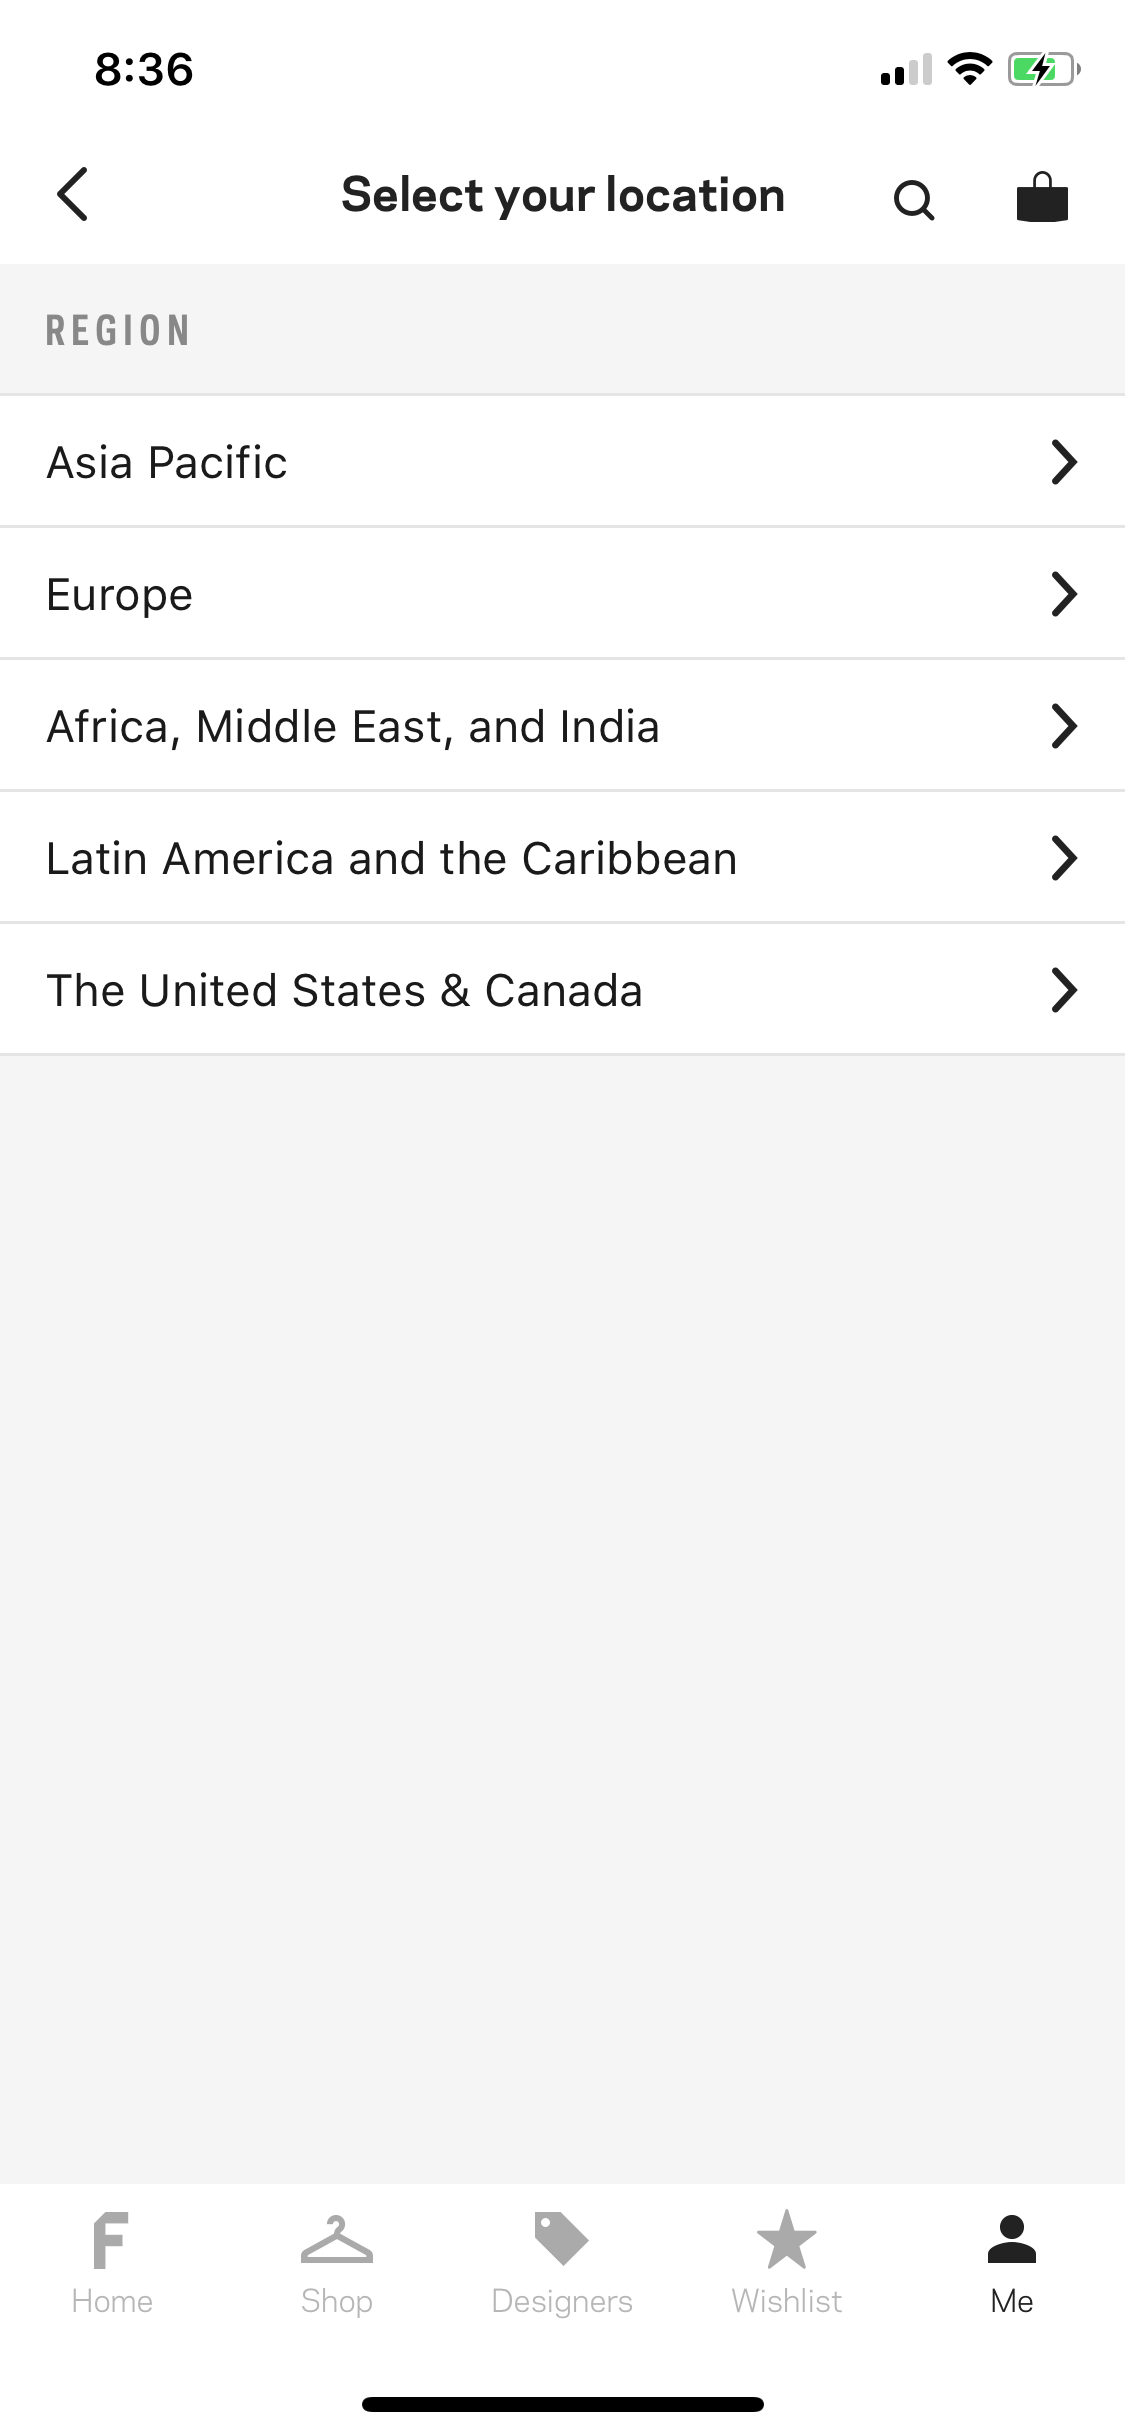Buttons: (23, 129, 140, 249), (858, 127, 971, 249), (996, 126, 1105, 245)
